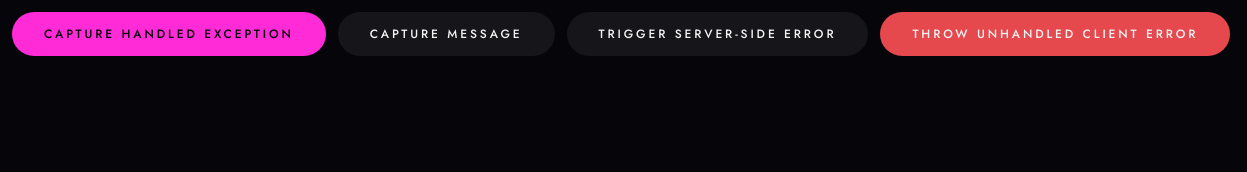
Test: TelemetryTestPanel › captures a handled exception and displays its event id
The width and height of the screenshot is (1247, 172).
Click the button "Capture handled exception". click: [169, 34]
box: [12, 12, 326, 56]
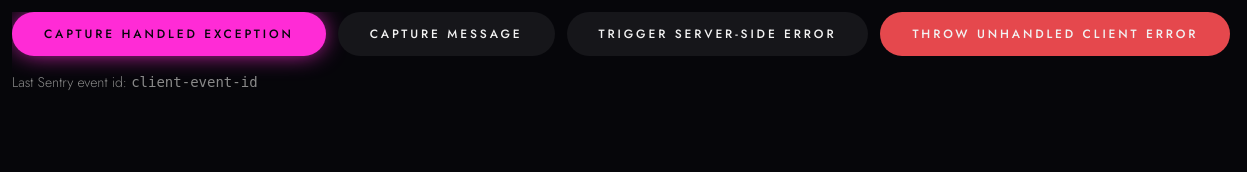
Result: the text "client-event-id" is shown at [131, 74, 258, 90]
